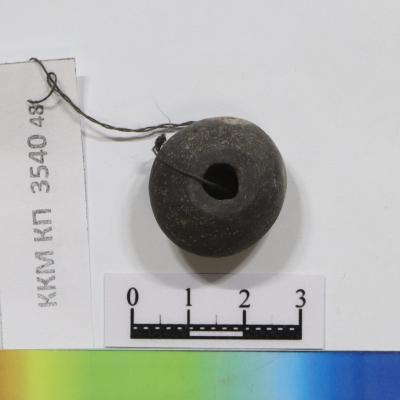archeology: (148, 117, 288, 262)
